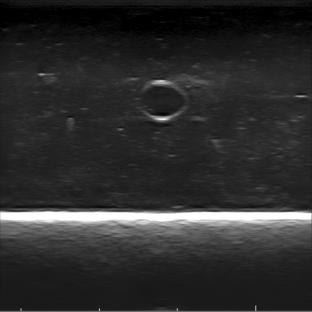vessel: (137, 79, 189, 122)
